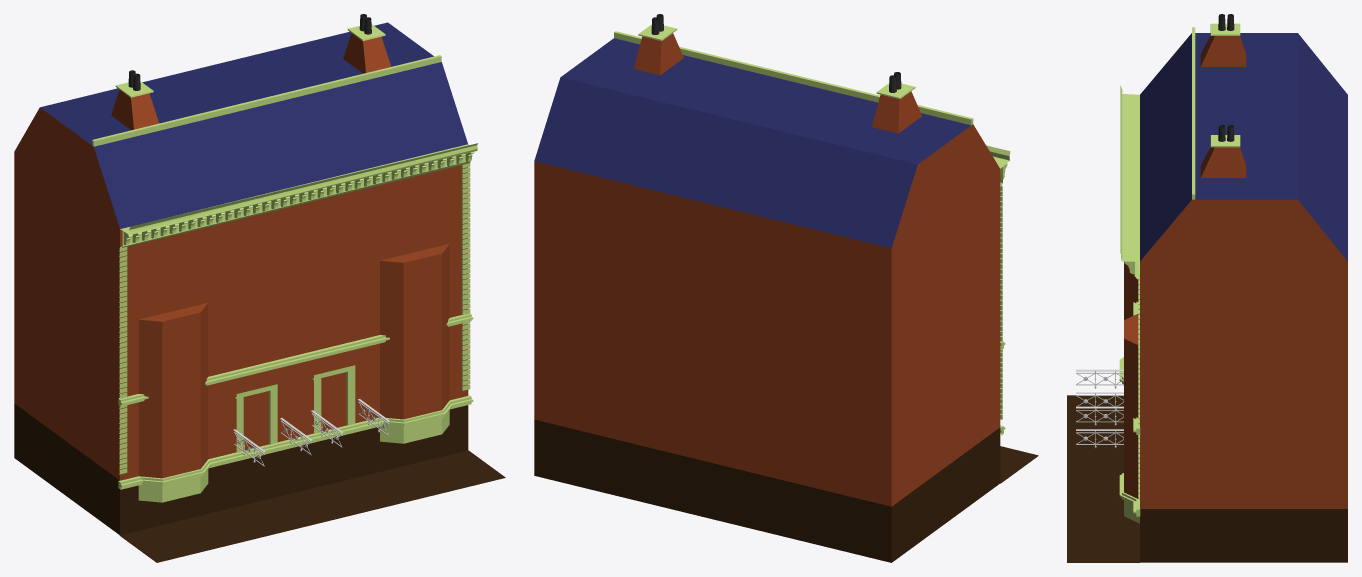
The model's file is Empty_BuildingSide_BASE.fbx.
3 renders of one model, left to right at view 1: azimuth 30°, elevation 25°; view 2: azimuth 150°, elevation 25°; view 3: azimuth 270°, elevation 25°, orthographic. The views are drawn at different scales.
Visible parts, largest first — view 1: Building_Base, geo_LowerFloor.001, geo_Corner_Stones41.001, geo_Chimney_Base.001, geo_OrnamentSection2.001, geo_Rooftop_Edge_Top.003, geo_Rooftop_Edge_Top.002, pCube259.001, deurkubus2_J.001, pCube277.001, geo_Rooftop_Edge_Bottom.001, pCube278.001 (+2 smaller); view 2: Building_Base, geo_Chimney_Base.001, geo_Rooftop_Edge_Top.002, geo_LowerFloor.001, geo_Corner_Stones41.001; view 3: Building_Base, geo_LowerFloor.001, geo_Chimney_Base.001, geo_Rooftop_Edge_Top.003, geo_UpperConntector2.003, geo_Rooftop_Edge_Top.002, geo_OrnamentSection2.001, geo_Corner_Stones41.001, geo_UpperConntector.005.
Part boxes in pixels (x1,y1,x2,y2): Building_Base: [14, 22, 468, 535]; geo_LowerFloor.001: [119, 450, 505, 562]; geo_Corner_Stones41.001: [119, 162, 470, 474]; geo_Chimney_Base.001: [111, 14, 391, 130]; geo_OrnamentSection2.001: [136, 400, 453, 502]; geo_Rooftop_Edge_Top.003: [120, 143, 477, 234]; geo_Rooftop_Edge_Top.002: [92, 55, 441, 146]; pCube259.001: [123, 151, 474, 245]; deurkubus2_J.001: [235, 365, 355, 452]; pCube277.001: [118, 313, 473, 406]; geo_Rooftop_Edge_Bottom.001: [120, 154, 470, 247]; pCube278.001: [118, 395, 471, 489]; Building_Base: [534, 38, 1000, 562]; geo_Chimney_Base.001: [633, 14, 921, 133]; geo_Rooftop_Edge_Top.002: [614, 31, 973, 125]; geo_LowerFloor.001: [1000, 446, 1038, 483]; geo_Corner_Stones41.001: [1000, 186, 1002, 419]; Building_Base: [1124, 33, 1347, 562]; geo_LowerFloor.001: [1067, 395, 1139, 562]; geo_Chimney_Base.001: [1200, 14, 1246, 177]; geo_Rooftop_Edge_Top.003: [1120, 85, 1139, 261]; geo_UpperConntector2.003: [1076, 372, 1123, 444]; geo_Rooftop_Edge_Top.002: [1192, 27, 1195, 199]; geo_OrnamentSection2.001: [1119, 357, 1139, 523]; geo_Corner_Stones41.001: [1138, 275, 1139, 502]; geo_UpperConntector.005: [1076, 369, 1123, 430].
Size of the model in its own units: 833 by 943 by 587.
